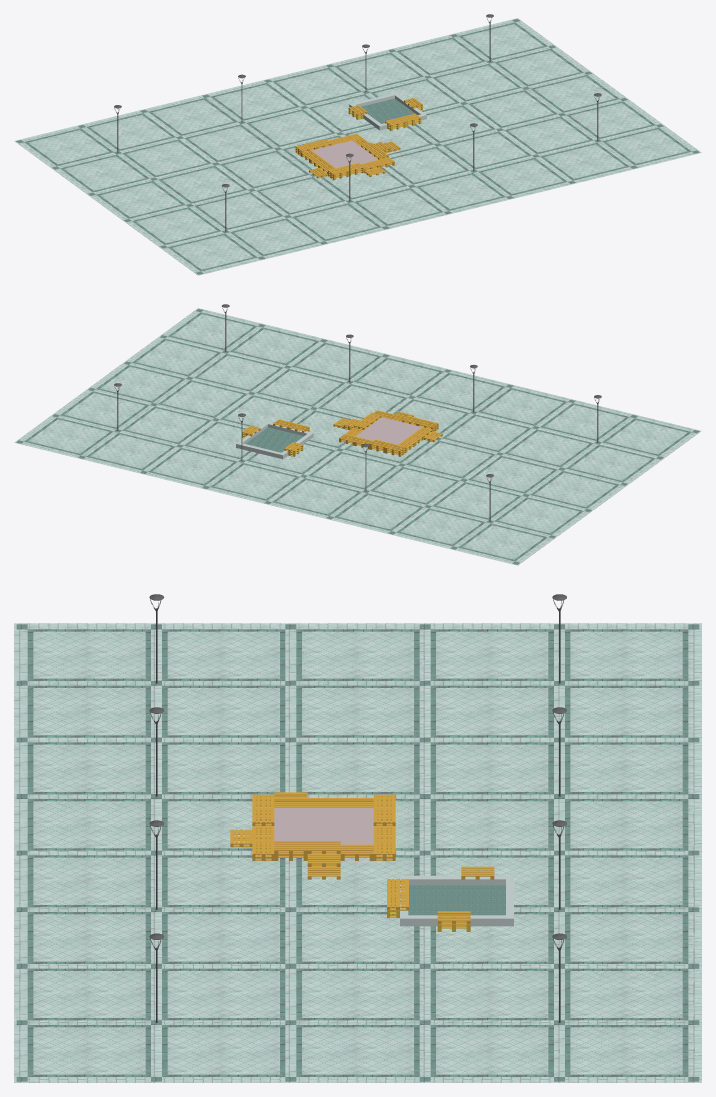
3 views of the same model, one above another, from view 1: azimuth 30°, elevation 25°; view 2: azimuth 150°, elevation 25°; view 3: azimuth 270°, elevation 25° (orthographic). The views are drawn at different scales.
Parts seen in each view (by area): view 1: square 1 component (×39), object 95, object 37, object 54, object 53; view 2: square 1 component (×40), object 95, object 37, object 53, object 54; view 3: square 1 component (×40), object 95, object 37, object 54, object 53.
Boxes of the visible parts, box(x1,y1,x2,y2) form: square 1 component (×39): box(16, 22, 691, 271); object 95: box(14, 18, 701, 275); object 37: box(312, 140, 378, 168); object 54: box(361, 98, 414, 123); object 53: box(349, 93, 426, 130); square 1 component (×40): box(24, 312, 691, 564); object 95: box(14, 308, 701, 565); object 37: box(355, 417, 421, 444); object 53: box(236, 421, 313, 459); object 54: box(245, 427, 303, 452); square 1 component (×40): box(27, 624, 699, 1076); object 95: box(14, 623, 701, 1082); object 37: box(274, 807, 373, 844); object 54: box(408, 885, 505, 915); object 53: box(400, 875, 513, 926).
Size of the model in its own units: 7.9 by 0.7016 by 5.
11 materials, 4 textured.
